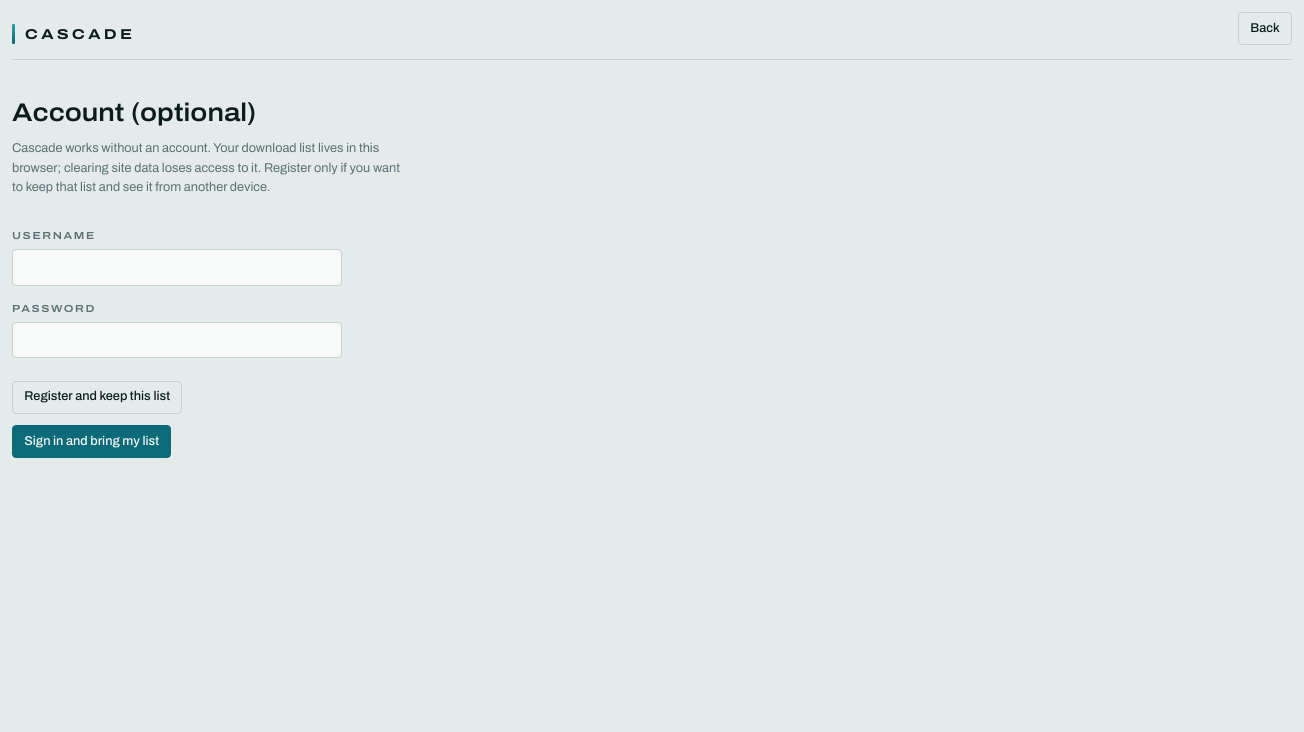
it: a failed registration shows why
Check: the field labelled "Username" is shown, box x1=12 y1=249 x2=342 y2=286
Click the button "Register and keep this list".
click(97, 397)  # box x1=12 y1=381 x2=182 y2=414
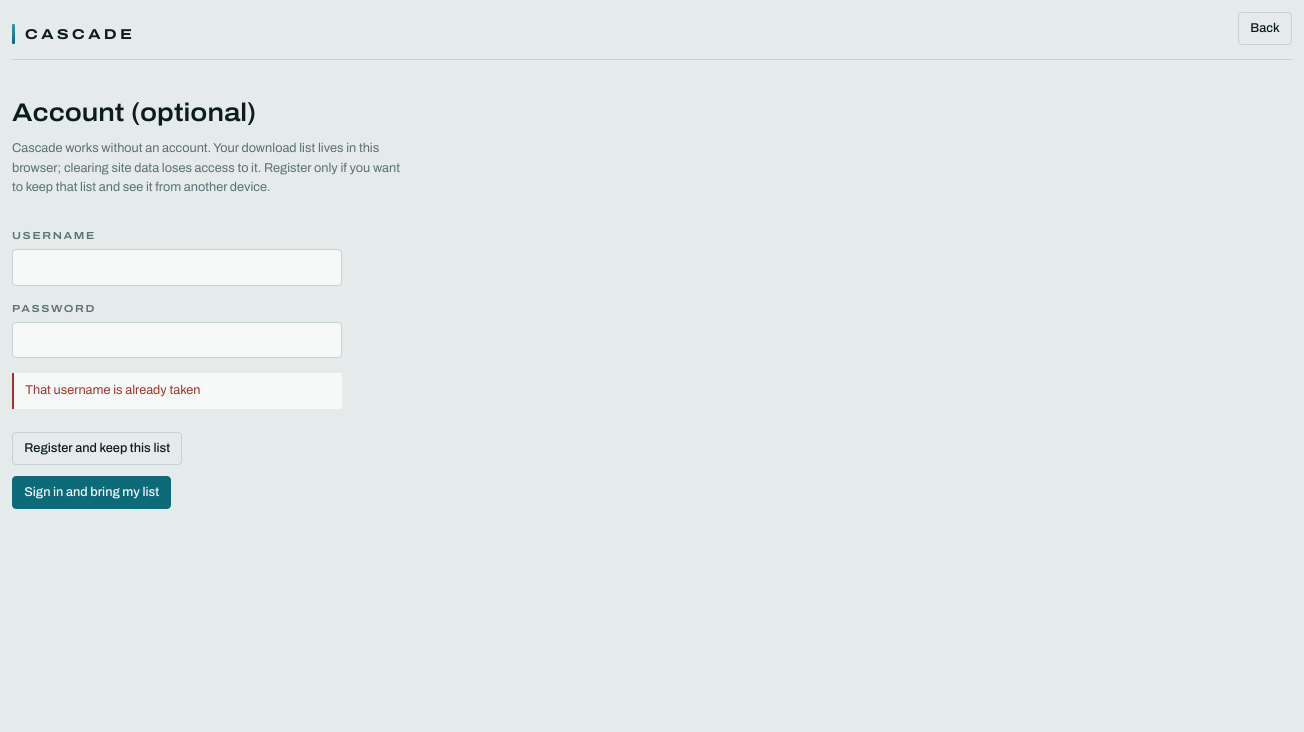
Check: the text "That username is already taken" is shown, box x1=12 y1=373 x2=342 y2=409
